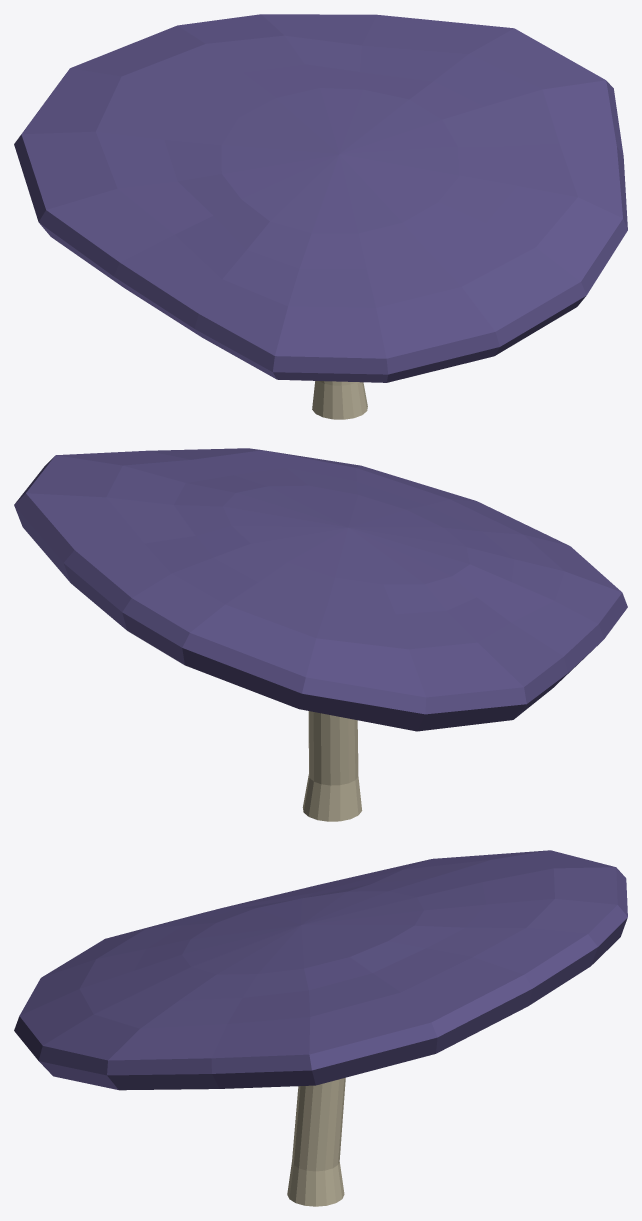
File: MUSHROOM_V4.fbx
The picture shows the model from 3 angles, top to bottom: view 1: azimuth 30°, elevation 25°; view 2: azimuth 150°, elevation 25°; view 3: azimuth 270°, elevation 25°; orthographic projection. The views are drawn at different scales.
Parts seen in each view (by area): view 1: Circle; view 2: Circle; view 3: Circle.
Boxes of the visible parts, x1,y1,x2,y2 form: Circle: [14, 14, 627, 419]; Circle: [14, 448, 627, 821]; Circle: [14, 850, 627, 1206].
Size of the model in its own units: 640 by 339 by 650.
